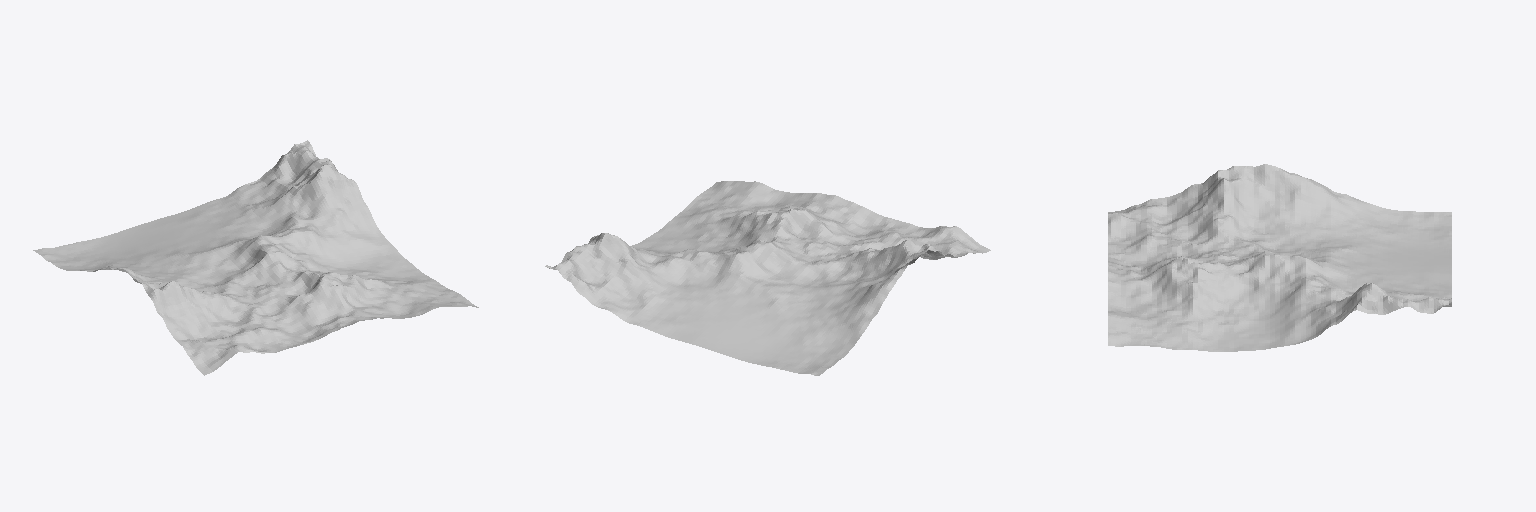
Rendered from ground12.obj.
The picture shows the model from 3 angles: view 1: azimuth 30°, elevation 25°; view 2: azimuth 150°, elevation 25°; view 3: azimuth 270°, elevation 25°; orthographic projection.
Visible parts, largest first — view 1: ground12; view 2: ground12; view 3: ground12.
Boxes of the visible parts, x1=… form: ground12: x1=33, y1=140, x2=478, y2=375; ground12: x1=545, y1=181, x2=990, y2=375; ground12: x1=1108, y1=164, x2=1451, y2=351.
Bounding box in the file's own units: 81.81 × 16.52 × 88.53.